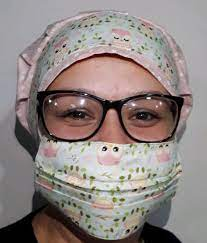with_mask_and_cap: (28, 17, 181, 238)
